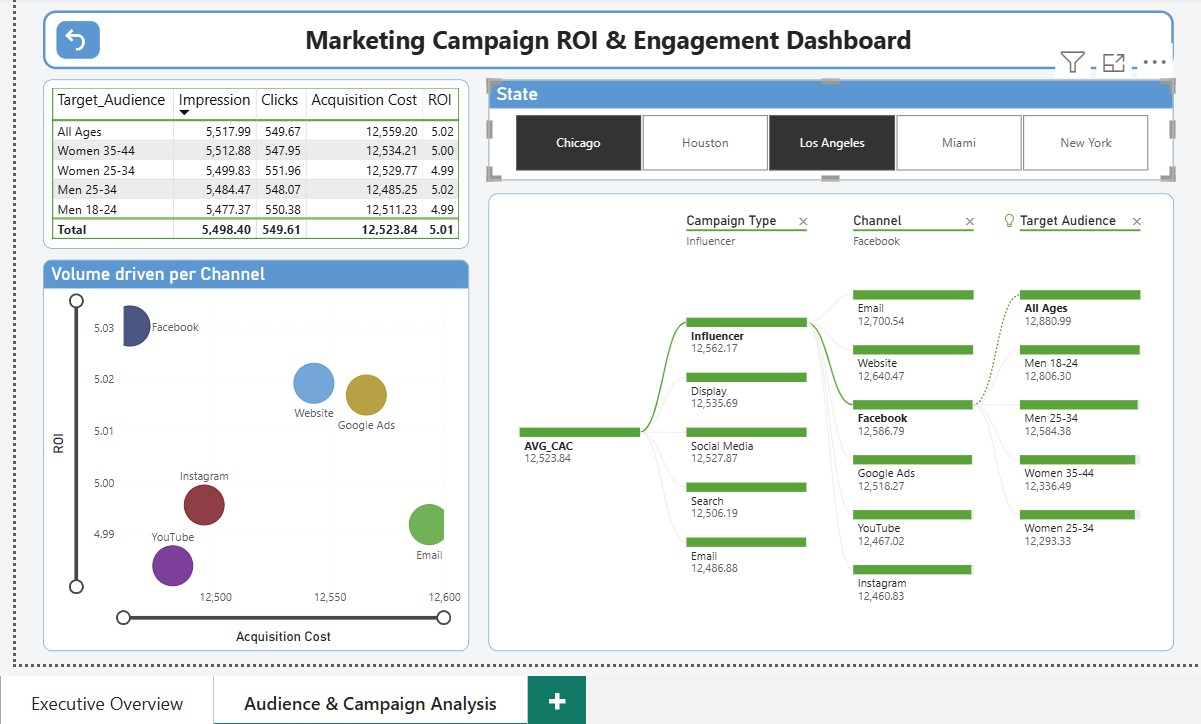

The dashboard page shown, as its layout file describes it:
{"tool":"powerbi","page":{"name":"Audience & Campaign Analysis","canvas":[1280,720],"ordinal":1},"visuals":[{"type":"slicer","title":"State","fields":{"Values":["marketing_campaign.Location"]},"box":[510.1,89.1,740,108.5],"z":0},{"type":"textbox","box":[29.1,14.6,1220.9,63.1],"z":1000},{"type":"tableEx","fields":{"Values":["marketing_campaign.Target_Audience","marketing_campaign.AVG_Impression","marketing_campaign.AVG_Clicks","marketing_campaign.Avg_CAC","marketing_campaign.Avg_ROI"]},"box":[29.1,89.1,459.9,183],"z":2000},{"type":"scatterChart","title":"Volume driven per Channel","fields":{"Series":["marketing_campaign.Channel_Used"],"X":["marketing_campaign.AVG_CAC"],"Y":["marketing_campaign.AVG_ROI"],"Size":["marketing_campaign.AVG_Conversion"]},"box":[29.1,283.4,459.9,422.6],"z":3000},{"type":"decompositionTreeVisual","fields":{"ExplainBy":["marketing_campaign.Campaign_Type","marketing_campaign.Channel_Used","marketing_campaign.Target_Audience"],"Analyze":["marketing_campaign.AVG_CAC"]},"box":[510.1,212.1,740,493.9],"z":4000}]}

Visuals, with their boxes in screenshot pixels (x1, y1, x2, y2):
"State" slicer: bbox(505, 114, 1166, 211)
textbox: bbox(76, 47, 1166, 104)
tableEx - marketing_campaign.Target_Audience x marketing_campaign.AVG_Impression: bbox(76, 114, 486, 277)
"Volume driven per Channel" scatterChart: bbox(76, 287, 486, 665)
decompositionTreeVisual - marketing_campaign.Campaign_Type x marketing_campaign.Channel_Used: bbox(505, 224, 1166, 665)
